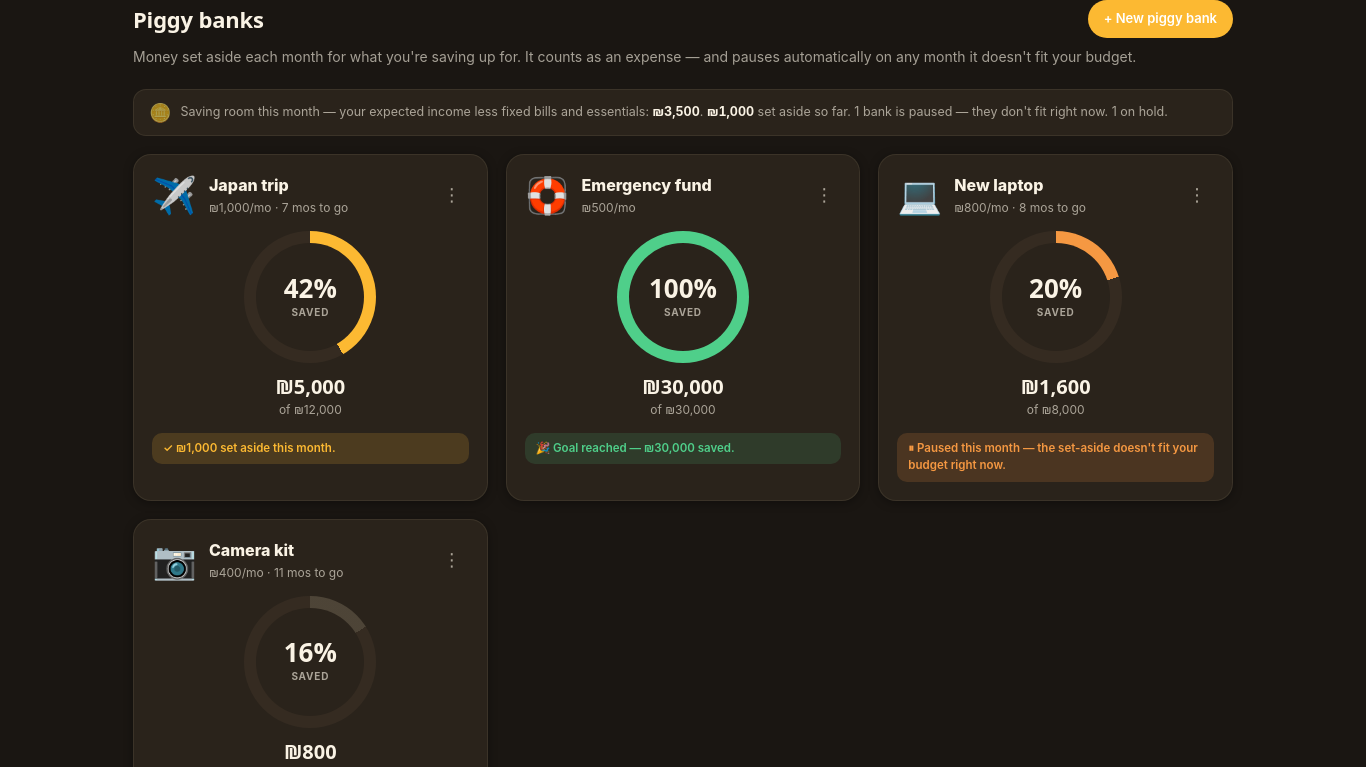
Test case: PiggyView — CRUD › opens the new-piggy dialog with empty fields when clicked
Click the button "+ New piggy bank" at (1160, 19), box 1088,0 -> 1233,38
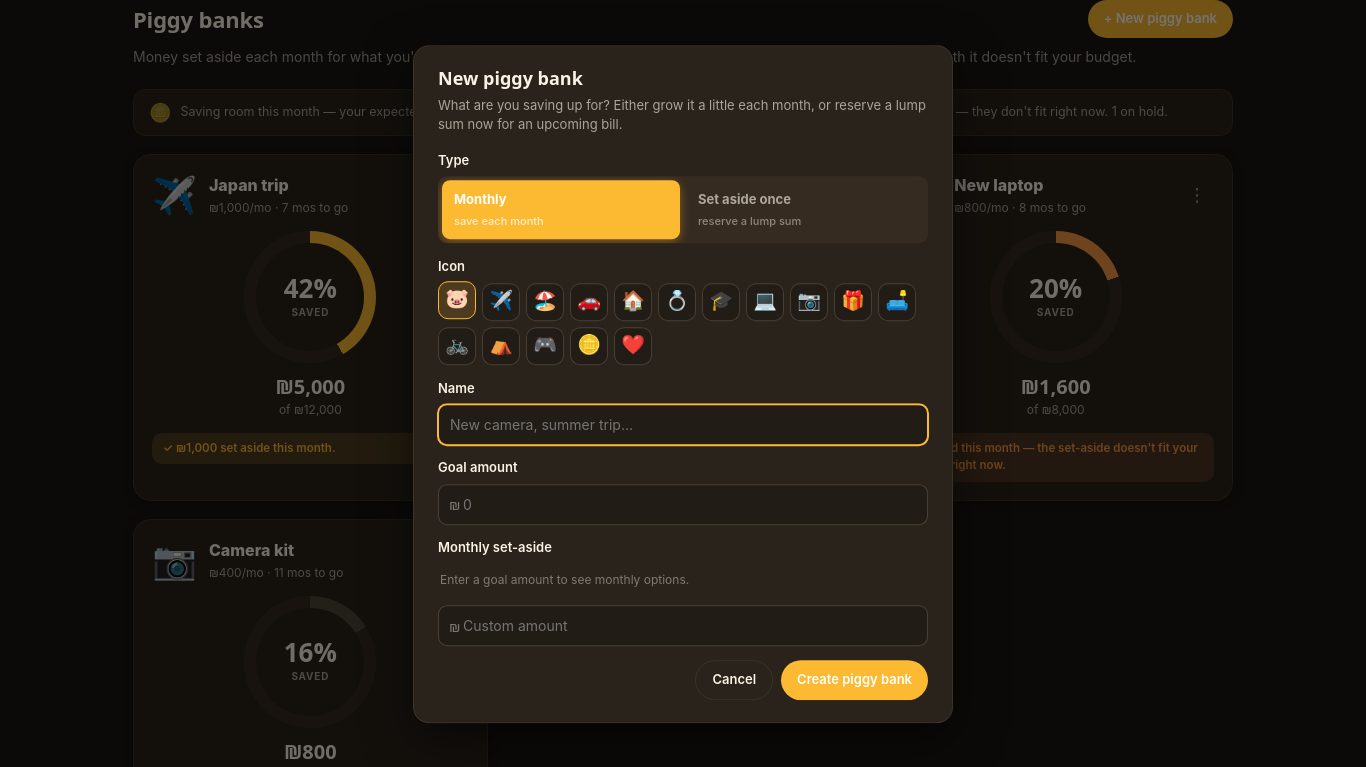
Expected: the heading "New piggy bank" is shown, 438,66 -> 583,90
Expected: the field labelled "Name" is empty, 438,404 -> 928,445
